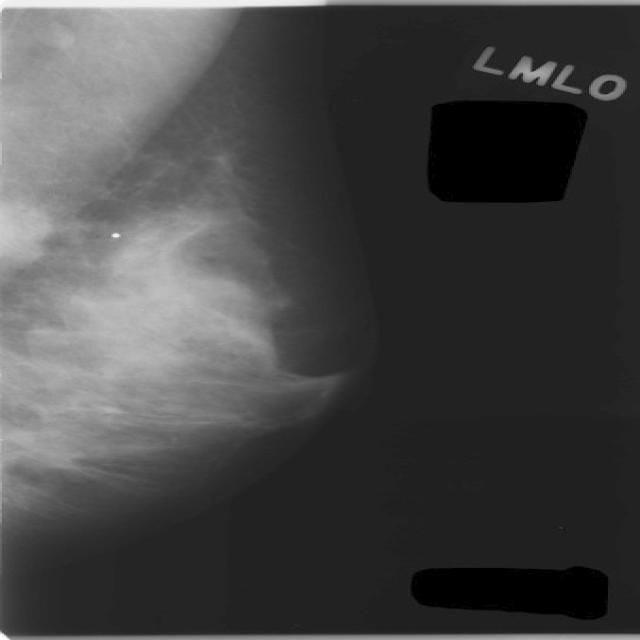tumour: (0, 203, 51, 268)
